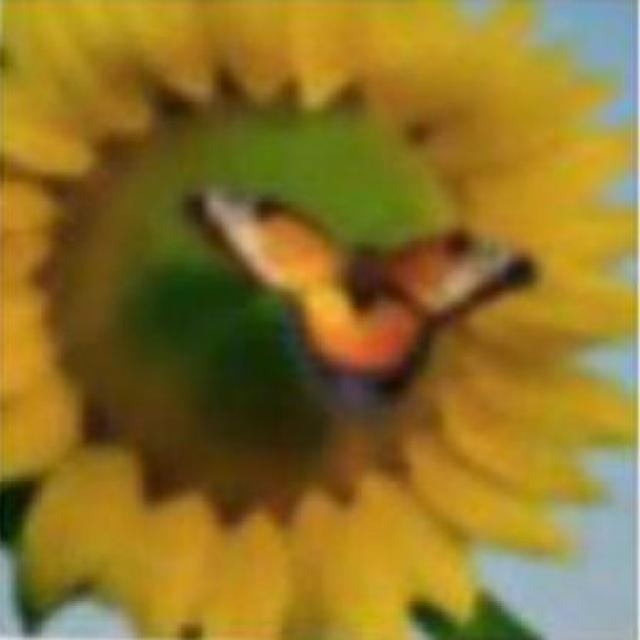sunflower: (0, 9, 635, 629)
